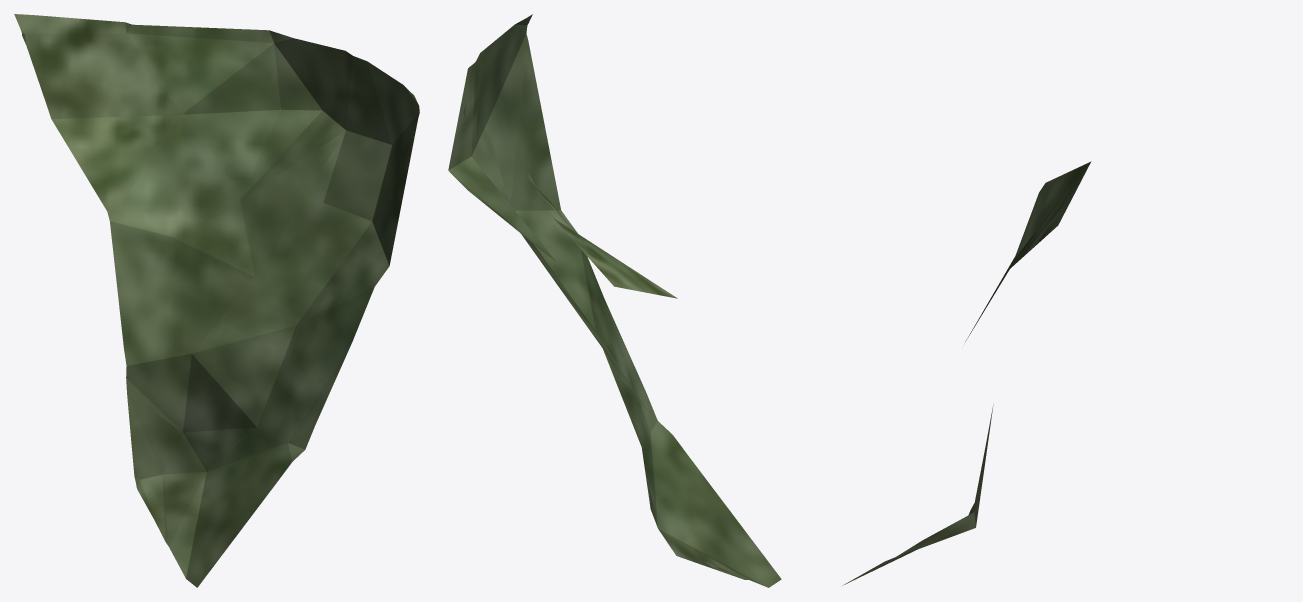
3 views of the same model, side by side, from view 1: azimuth 30°, elevation 25°; view 2: azimuth 150°, elevation 25°; view 3: azimuth 270°, elevation 25° (orthographic). The views are drawn at different scales.
Bounding box in the file's own units: 0.5755 × 1.07 × 0.8084.
Materials: 1 (1 with a texture image).
